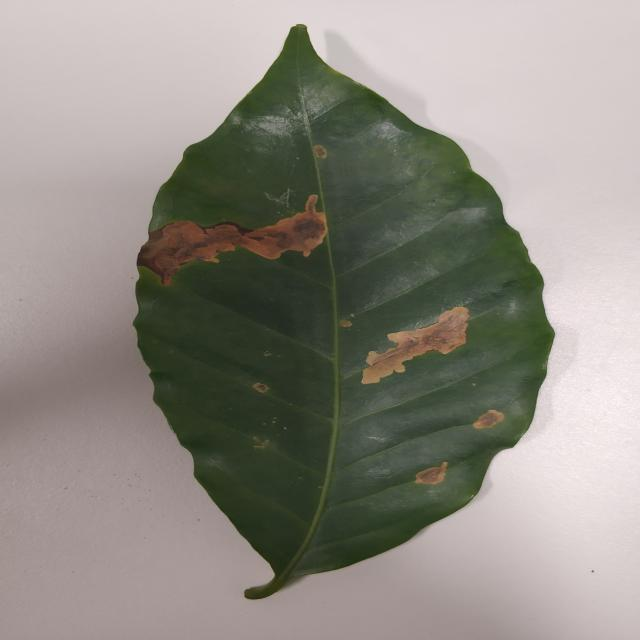Plaga-Minador: (132, 24, 556, 602)
